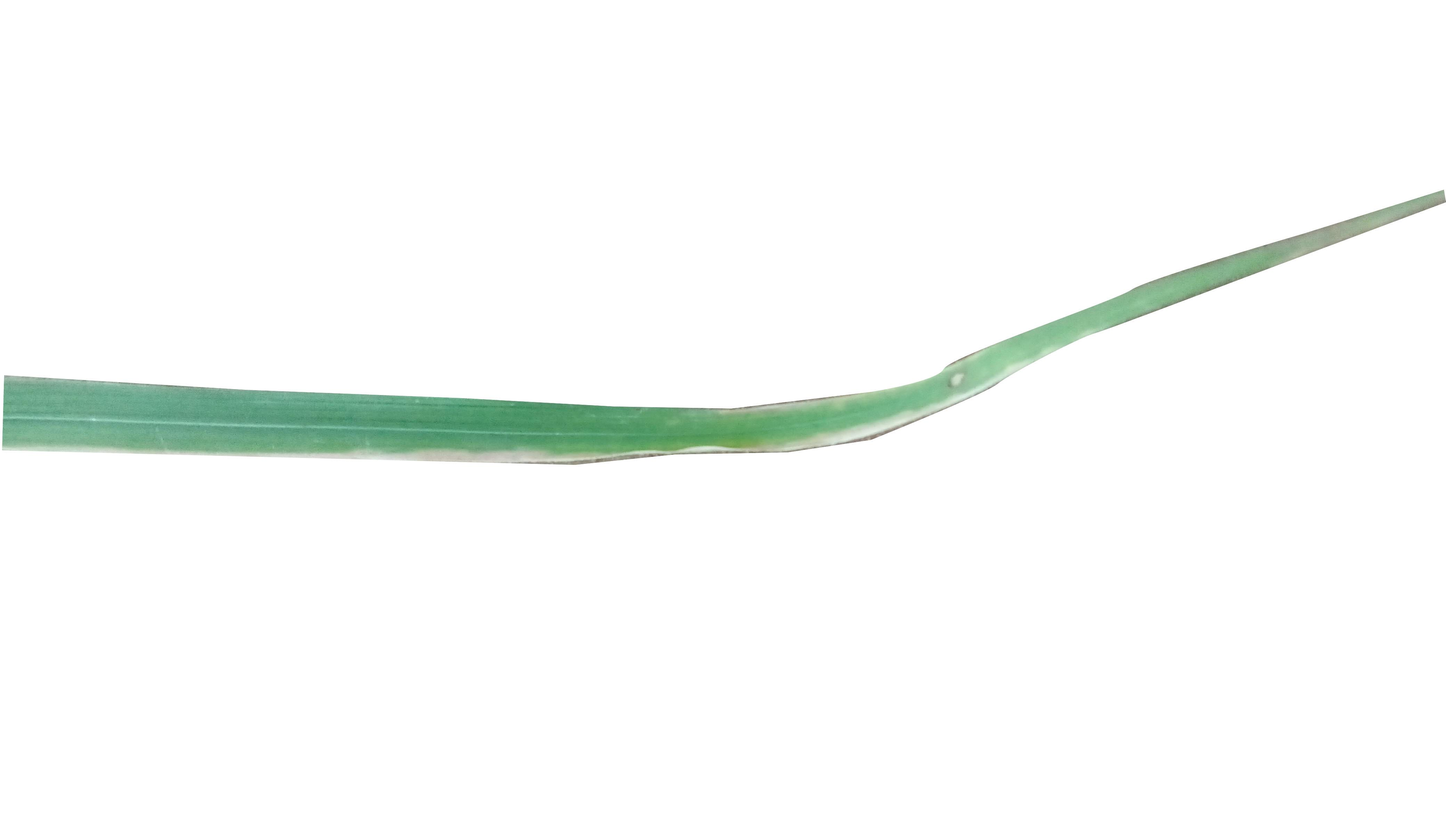Blight: (396, 440, 577, 464)
